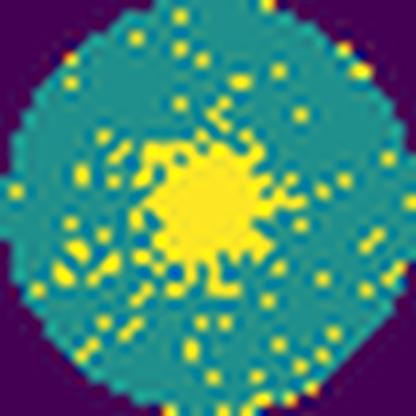Center: (133, 138, 276, 265)
